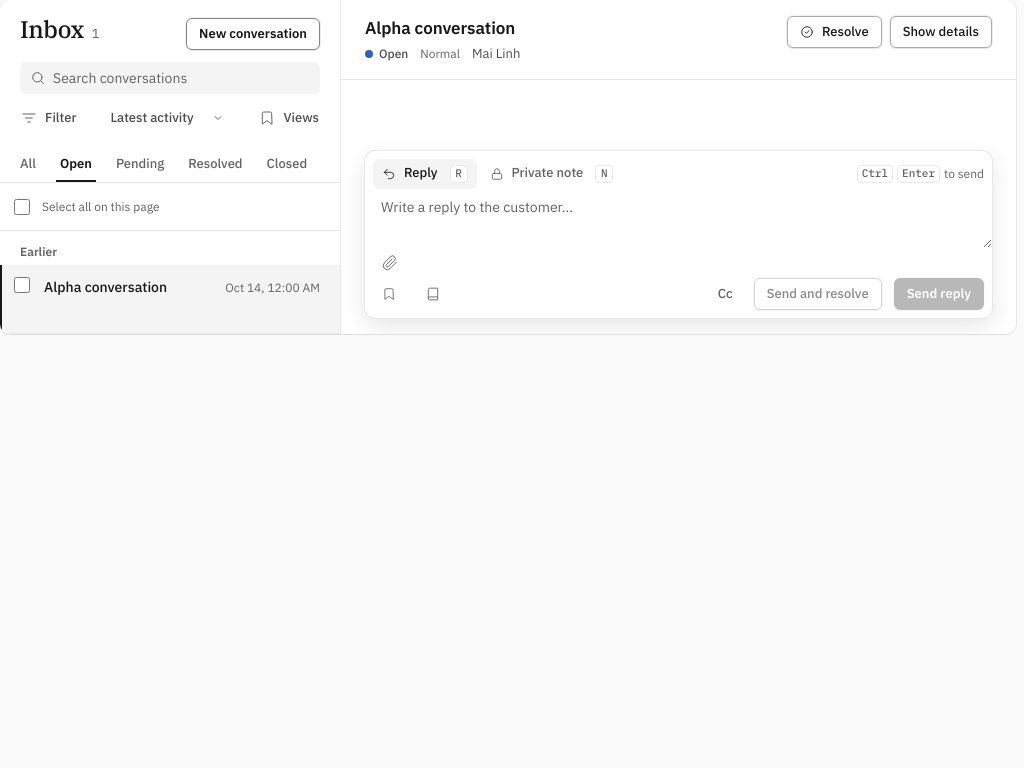
a saved reply inserted the moment a conversation is selected already has the customer name, with no extra request
The width and height of the screenshot is (1024, 768).
Click the button named "Insert saved reply".
click(389, 294)  # box [373,279,405,309]
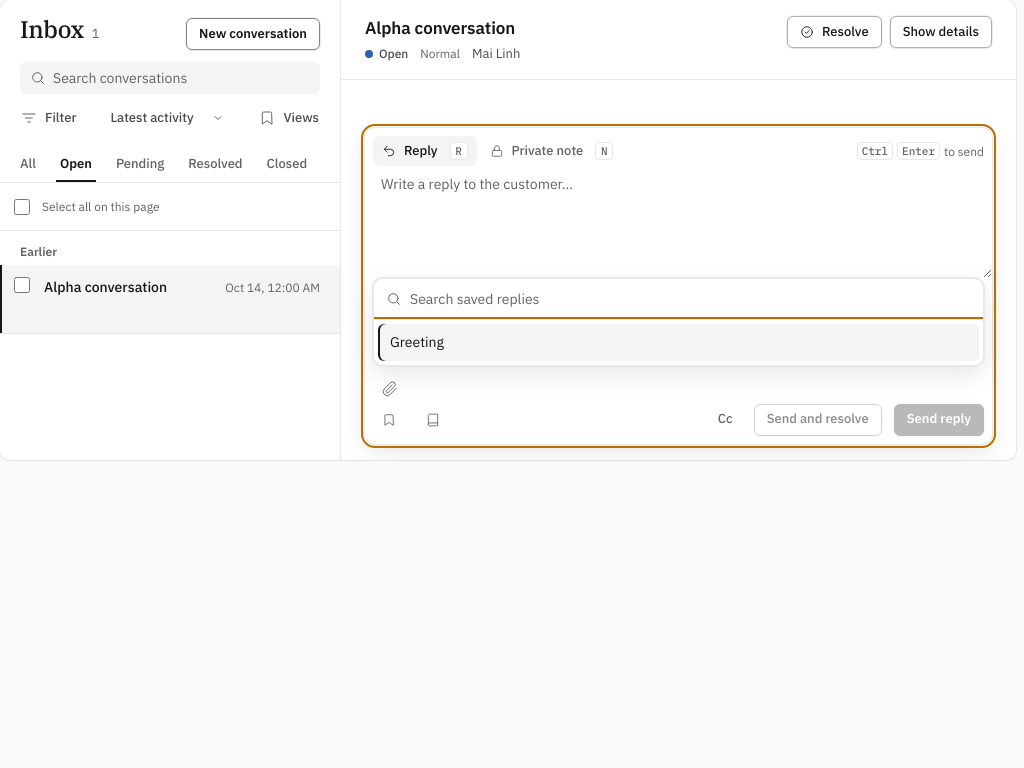
Click the option "Greeting".
click(417, 342)  # box [378,324,979,361]
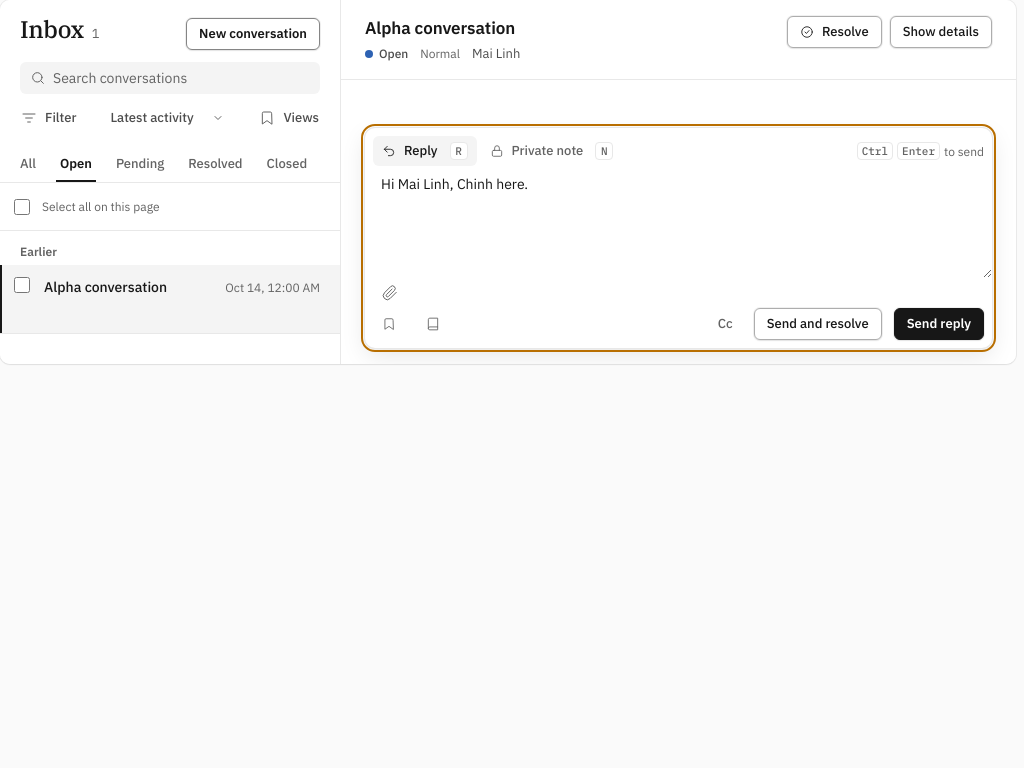
Check: the text box named "Message body" holds "Hi Mai Linh, Chinh here.", box [365,166,992,278]
